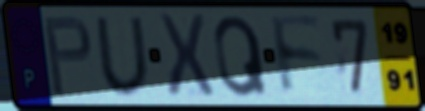7: (327, 17, 371, 97)
F: (267, 12, 326, 100)
P: (41, 13, 95, 98)
Q: (211, 13, 270, 100)
U: (91, 14, 154, 98)
X: (155, 11, 217, 102)
